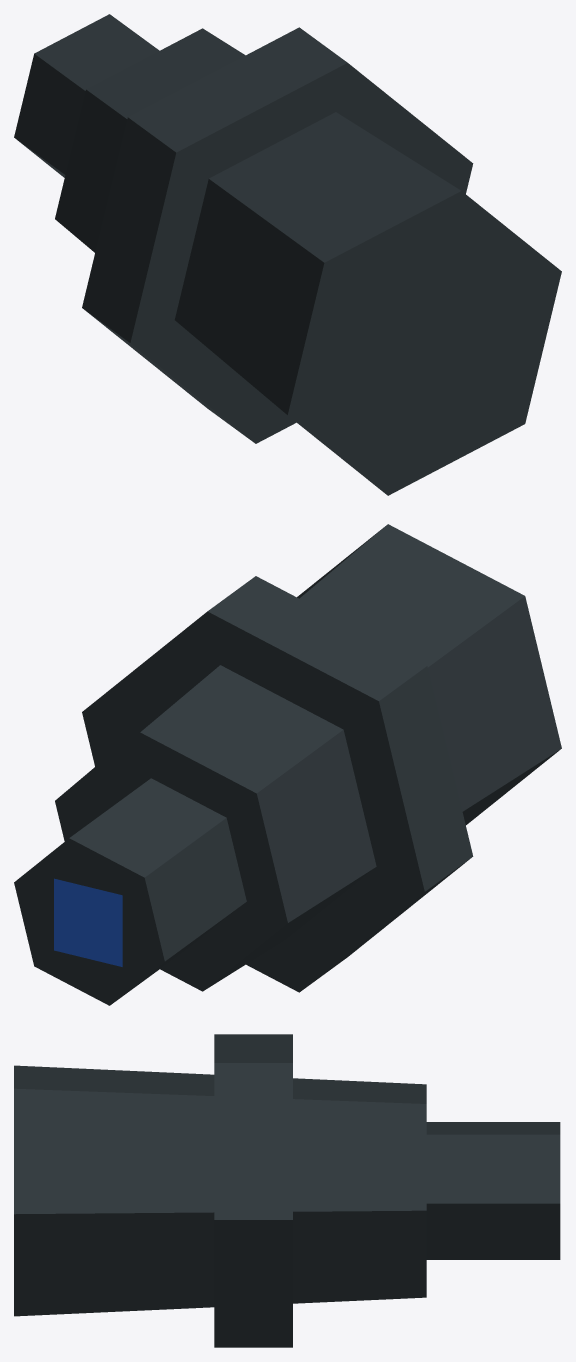
3 views of the same model, one above another, from view 1: azimuth 30°, elevation 25°; view 2: azimuth 150°, elevation 25°; view 3: azimuth 270°, elevation 25° (orthographic). The views are drawn at different scales.
Parts seen in each view (by area): view 1: mount; view 2: mount; view 3: mount.
Boxes of the visible parts, x1,y1,x2,y2 form: mount: (14, 14, 561, 495); mount: (14, 524, 561, 1005); mount: (14, 1034, 560, 1347).
Bounding box in the file's own units: 5.31 × 5.31 × 9.03.
